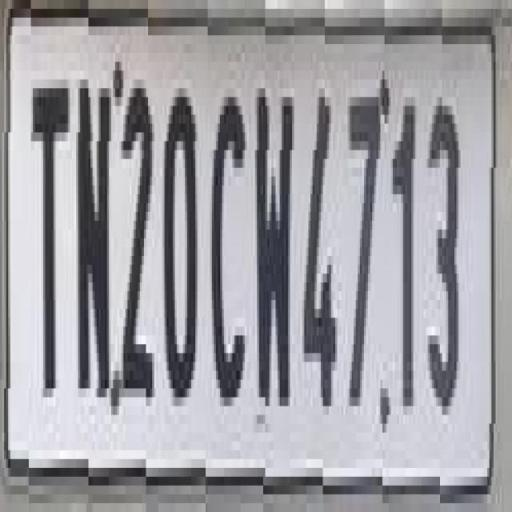number plate: (0, 0, 490, 512)
